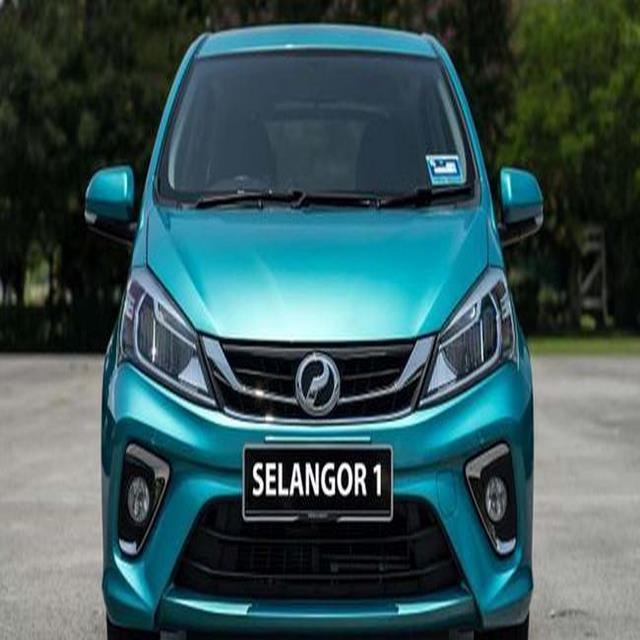License_Plate: (234, 433, 414, 539)
car: (79, 10, 552, 640)
